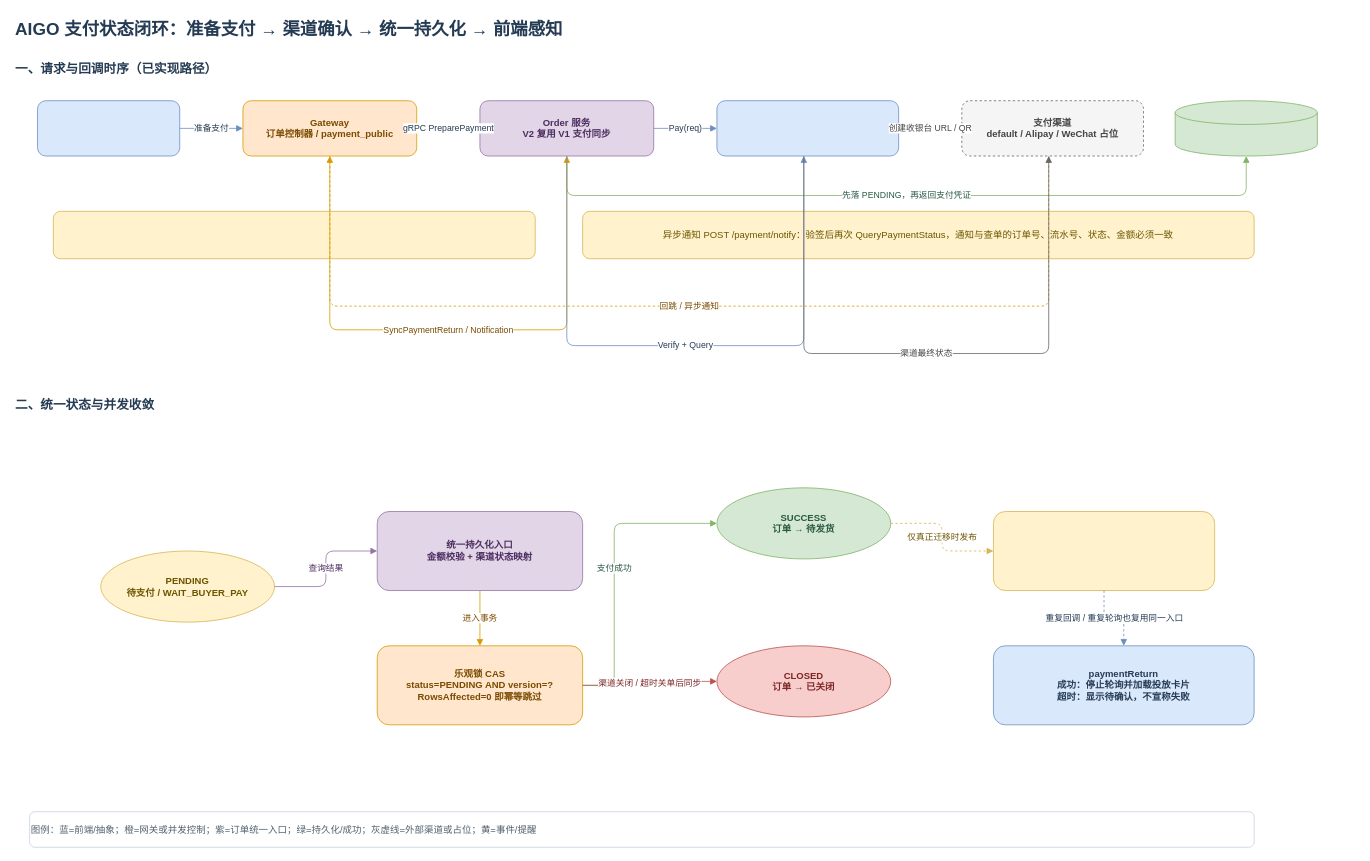
The diagram is 1370 pixels wide and 861 high, and some of its shapes have lost their labels. The centre of each missing label's shape, as x and y in pixels:
"IPayStrategy Pay / Query / Verify / Refund" belongs at (x=807, y=128).
"oms_order_payment PENDING 流水 + version" belongs at (x=1245, y=128).
"前端 orderPay / paymentReturn" belongs at (x=108, y=128).
"同步回跳 GET /payment/status：服务端仍查渠道；当前代码未发现独立 60 秒后台查单任务" belongs at (x=294, y=235).
"状态确实变化后 order.status.changed 支付事件下游消费可幂等" belongs at (x=1104, y=551).
